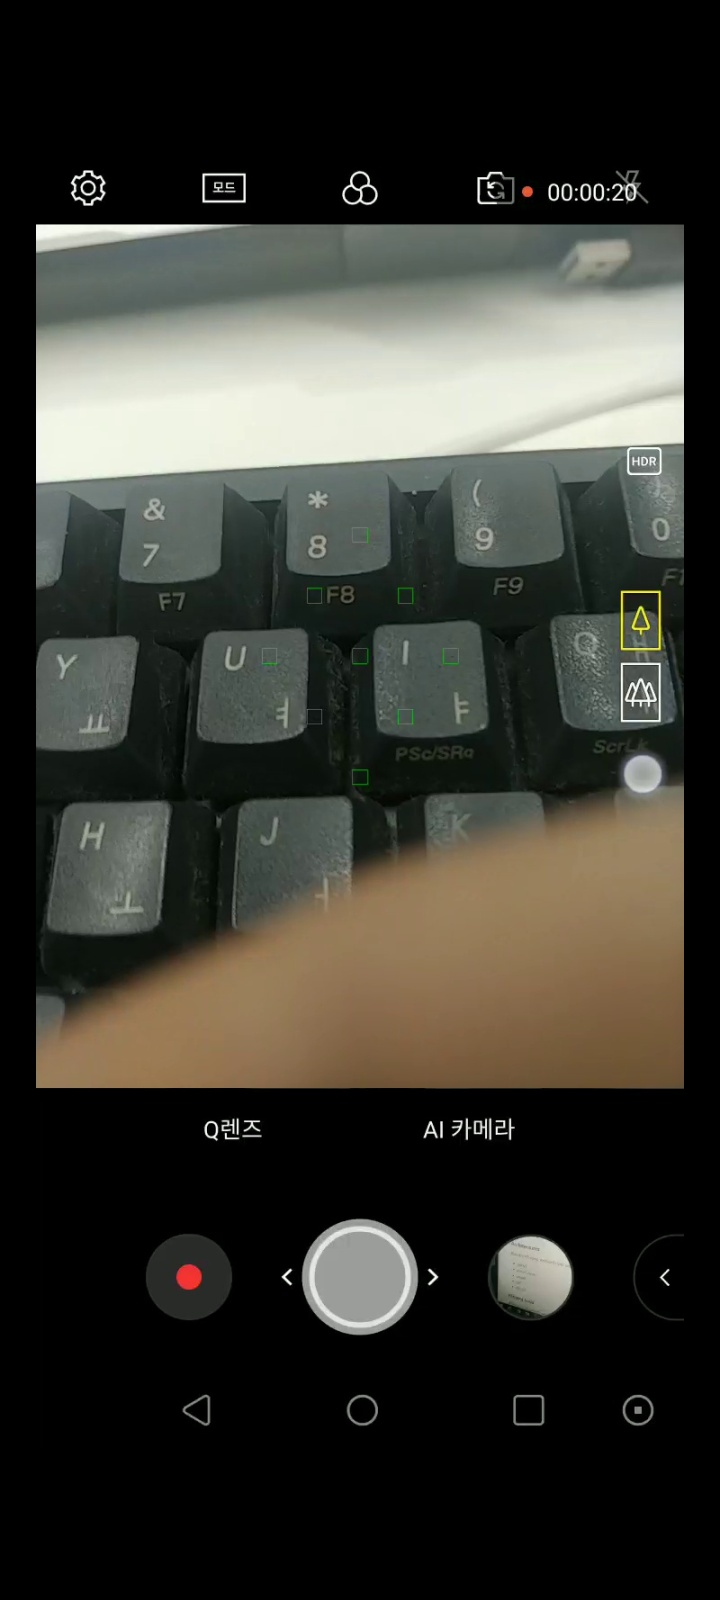Cursor: (617, 752, 667, 798)
